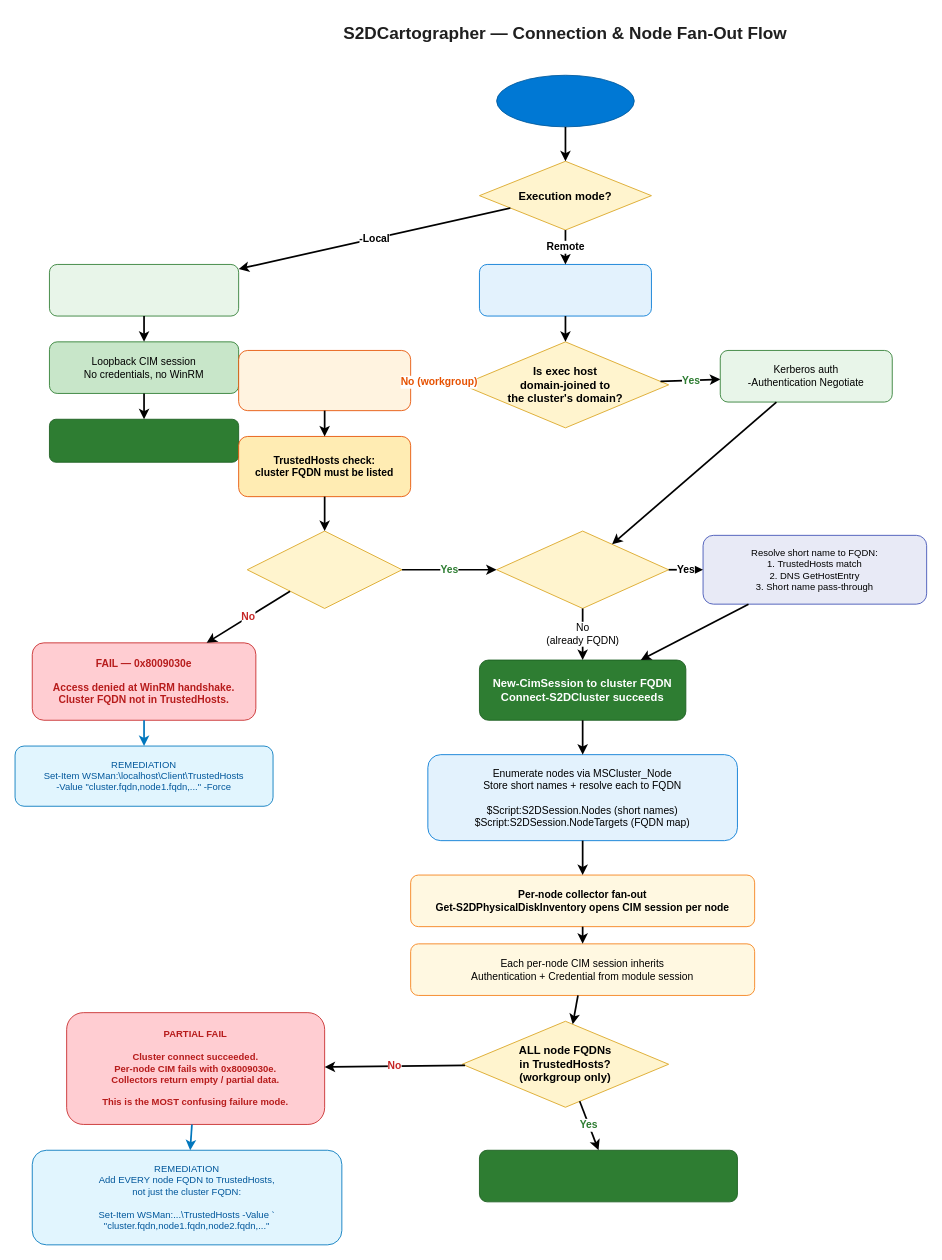
Some shapes in this 942 by 1260 pixel diagram are drawn without their labels. Here are the shapes that lost their labels. From the top down, the centre of each, then its label:
At [565,100]: "Execution Host".
At [144,290]: "-Local switch (running on cluster node)".
At [565,290]: "-ClusterName (remote) or -CimSession provided".
At [324,380]: "NTLM auth -Authentication Negotiate -Credential required".
At [144,440]: "SUCCESS — collectors run locally".
At [324,569]: "FQDN in TrustedHosts?".
At [582,569]: "Short name supplied? (e.g. clus01)".
At [608,1175]: "FULL SUCCESS All collectors return data from all nodes".
